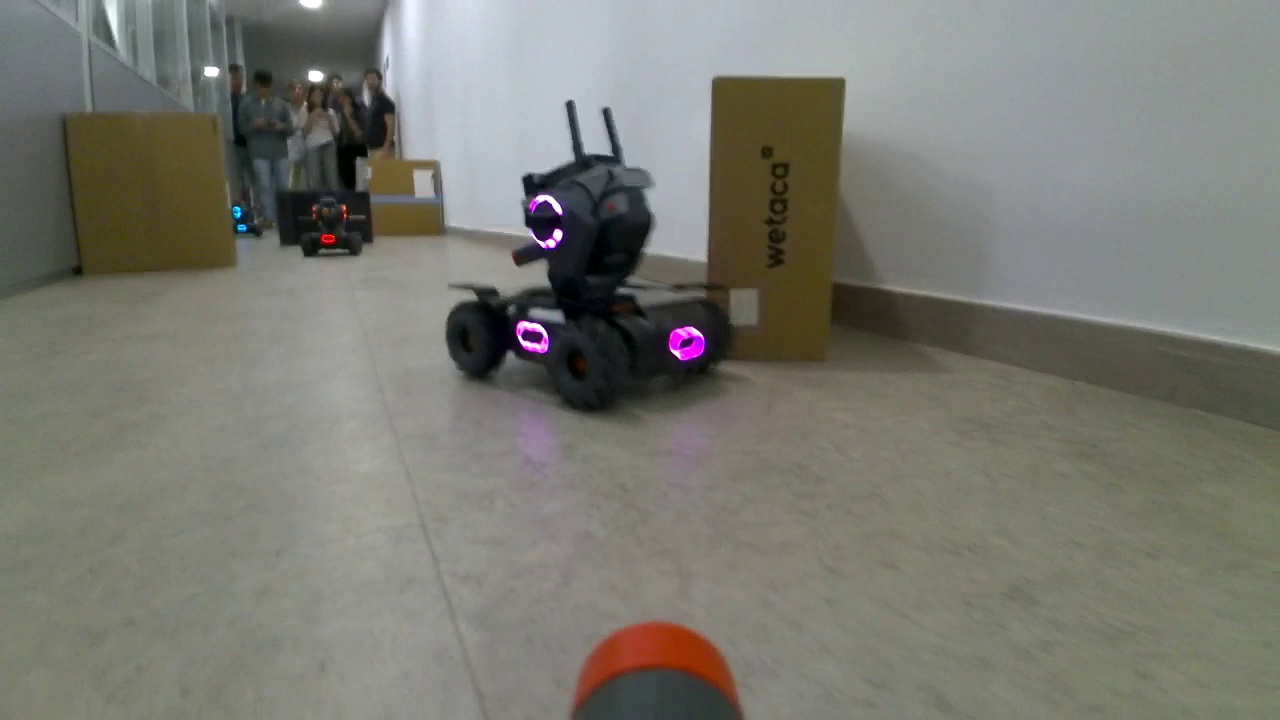robot: (444, 155, 735, 419), (298, 195, 363, 259)
